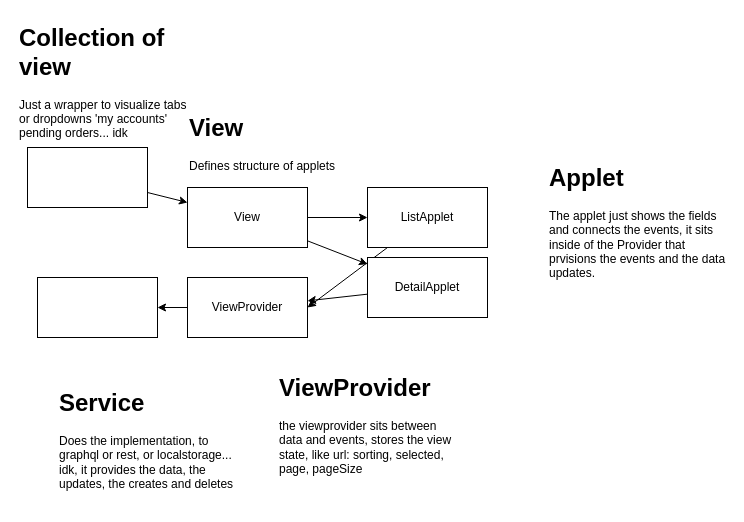
The diagram is 744 pixels wide and 522 high, and some of its shapes have lost their labels. The shapes that lost their labels are listed below. From the top down, each one's centre as x and y in pixels, then its label:
point 87,177: Screen
point 97,307: service
